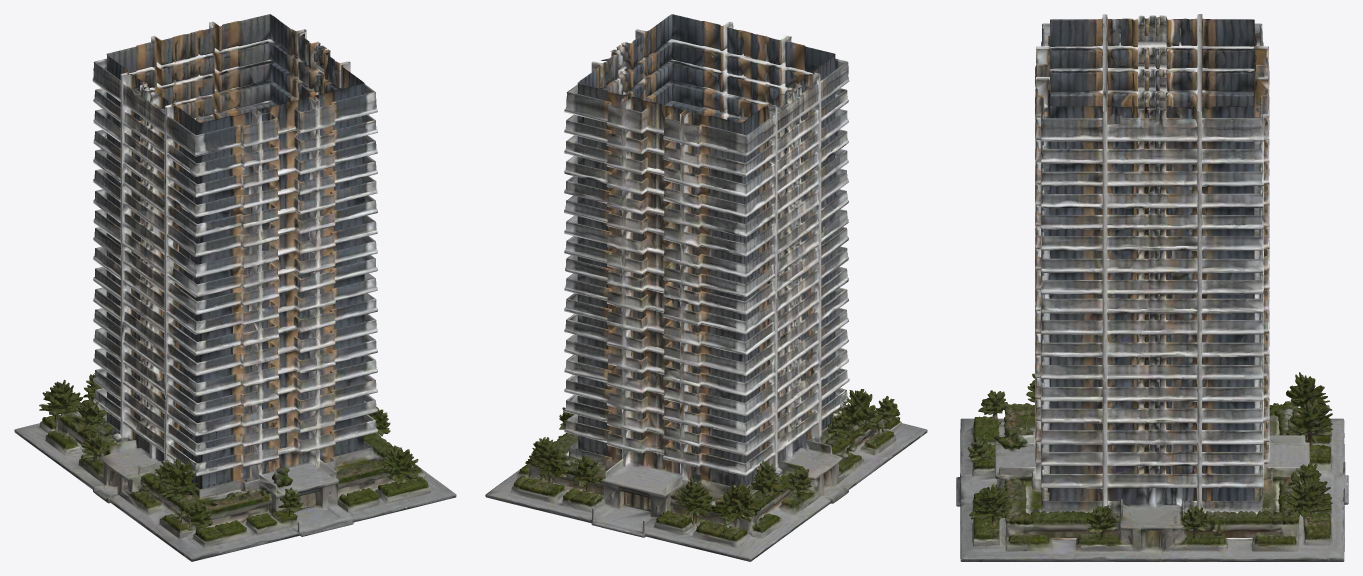
File: building-stage-2.glb
3 renders of one model, left to right at view 1: azimuth 30°, elevation 25°; view 2: azimuth 150°, elevation 25°; view 3: azimuth 270°, elevation 25°, orthographic. The views are drawn at different scales.
Parts seen in each view (by area): view 1: stage_2_middle_third, stage_1_lower_third, stage_0_ground; view 2: stage_2_middle_third, stage_1_lower_third, stage_0_ground; view 3: stage_2_middle_third, stage_1_lower_third, stage_0_ground.
Boxes of the visible parts, x1,y1,x2,y2 form: stage_2_middle_third: (92, 14, 377, 315); stage_1_lower_third: (39, 246, 427, 537); stage_0_ground: (14, 415, 456, 561); stage_2_middle_third: (564, 14, 849, 315); stage_1_lower_third: (514, 246, 899, 537); stage_0_ground: (485, 418, 927, 561); stage_2_middle_third: (1035, 14, 1269, 318); stage_1_lower_third: (967, 264, 1345, 541); stage_0_ground: (956, 418, 1348, 561).
Bounding box in the file's own units: 0.9084 × 1.29 × 1.07.
1 material, 1 textured.
